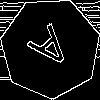A: (25, 23, 80, 80)
